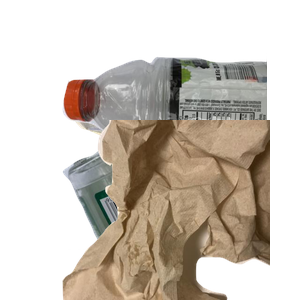glass: (60, 120, 300, 300)
paper: (68, 66, 215, 197)
plastic: (60, 53, 300, 201)
trash: (60, 120, 300, 300)
